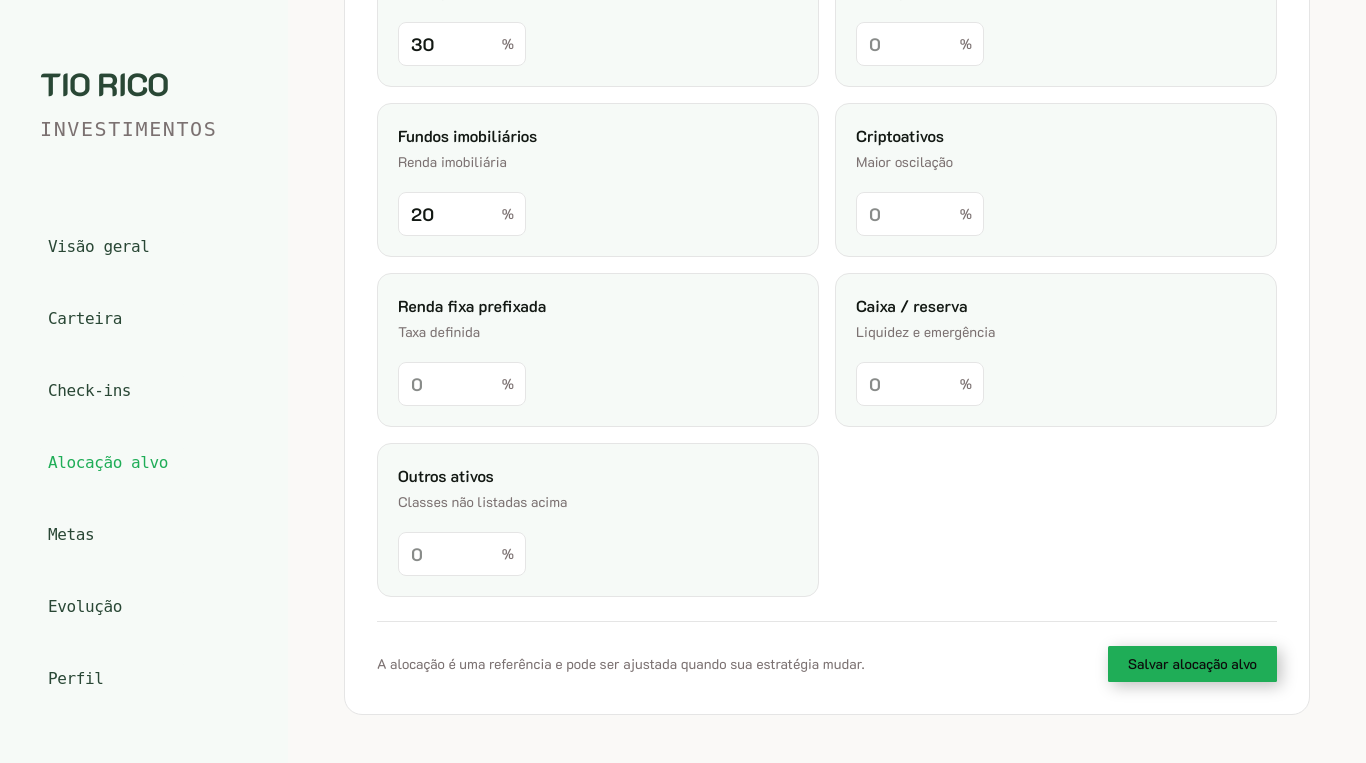
it: TargetAllocation (alocação alvo) › não envia quando a soma passa de 100%
(page scrolled)
Type "5" into the field labelled "Caixa / reserva Liquidez e emergência %" at (920, 384), box left=856, top=362, right=984, bottom=406
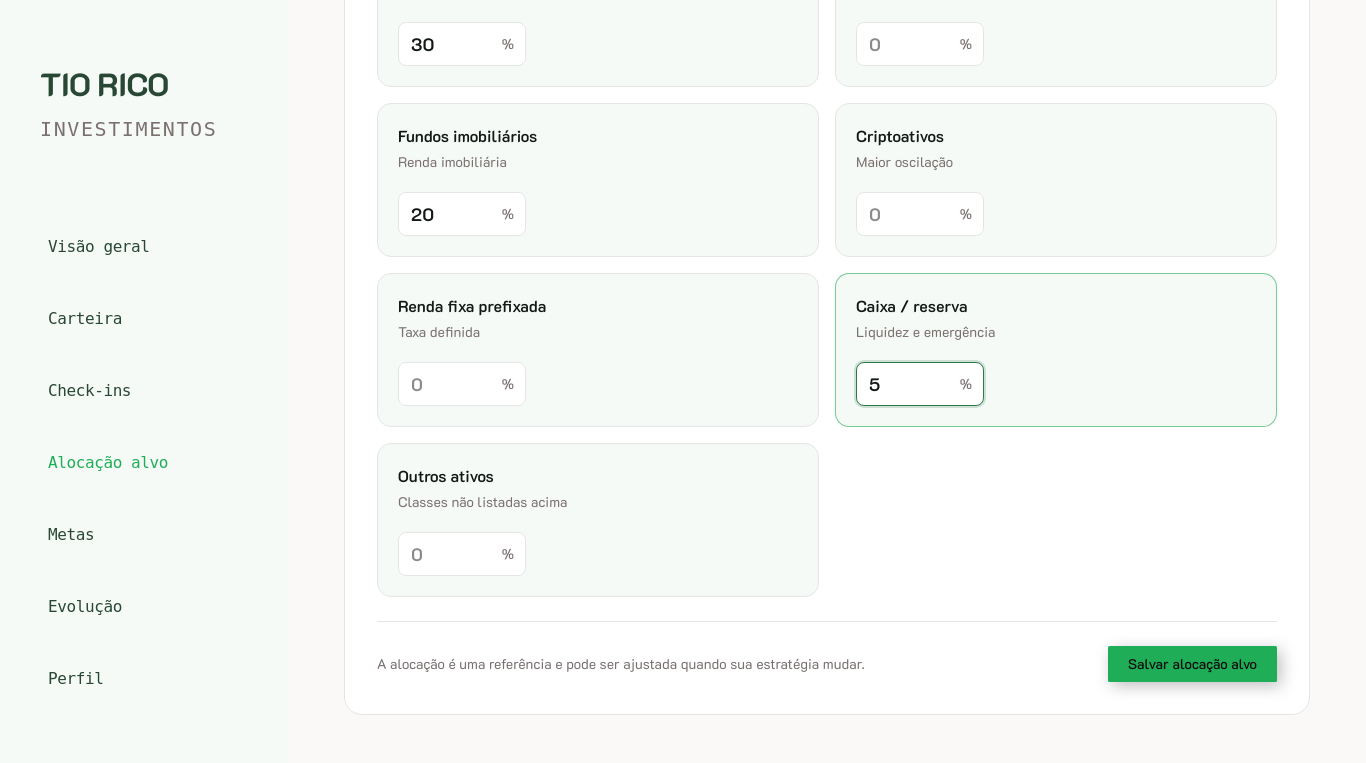
Click the button "Salvar alocação alvo" at (1192, 664), box left=1108, top=646, right=1277, bottom=682
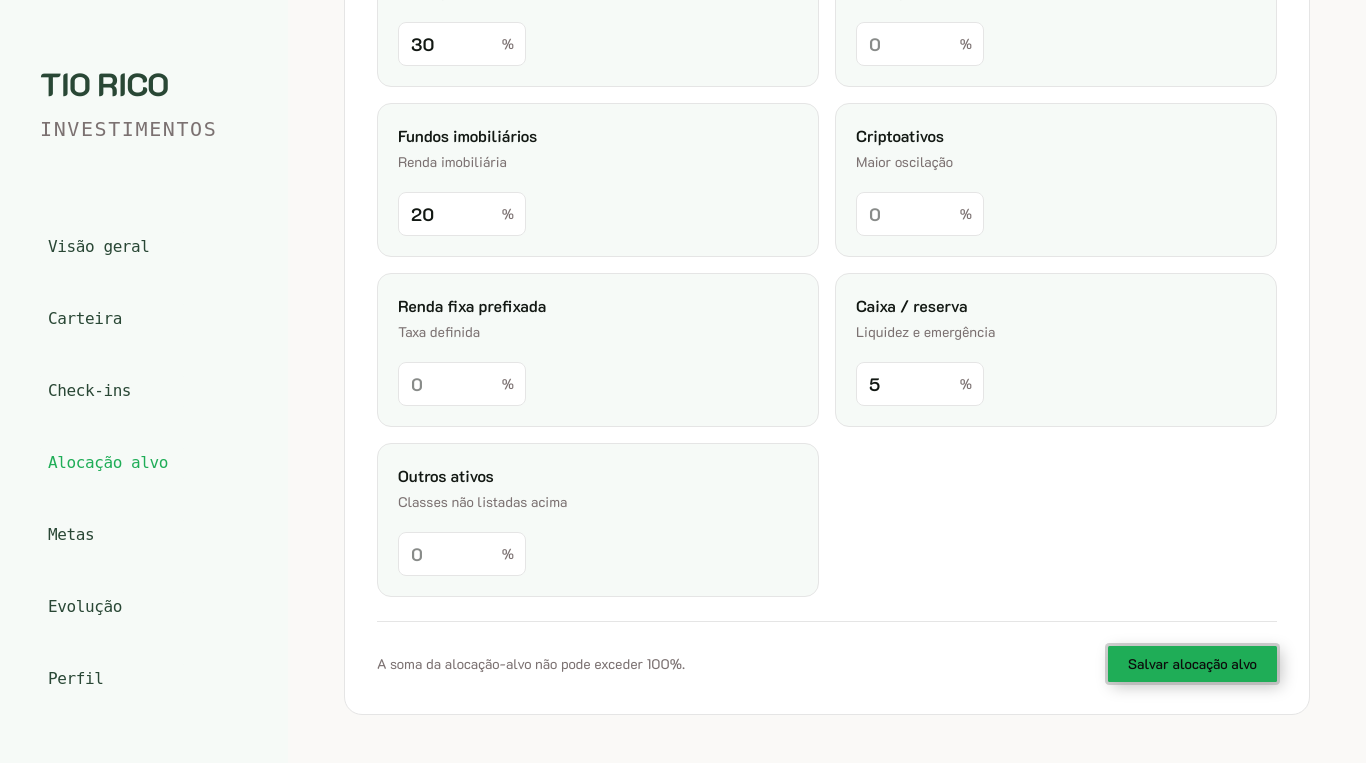
Now the text "A soma da alocação-alvo não pode exceder 100%." is shown, box left=377, top=654, right=685, bottom=674
